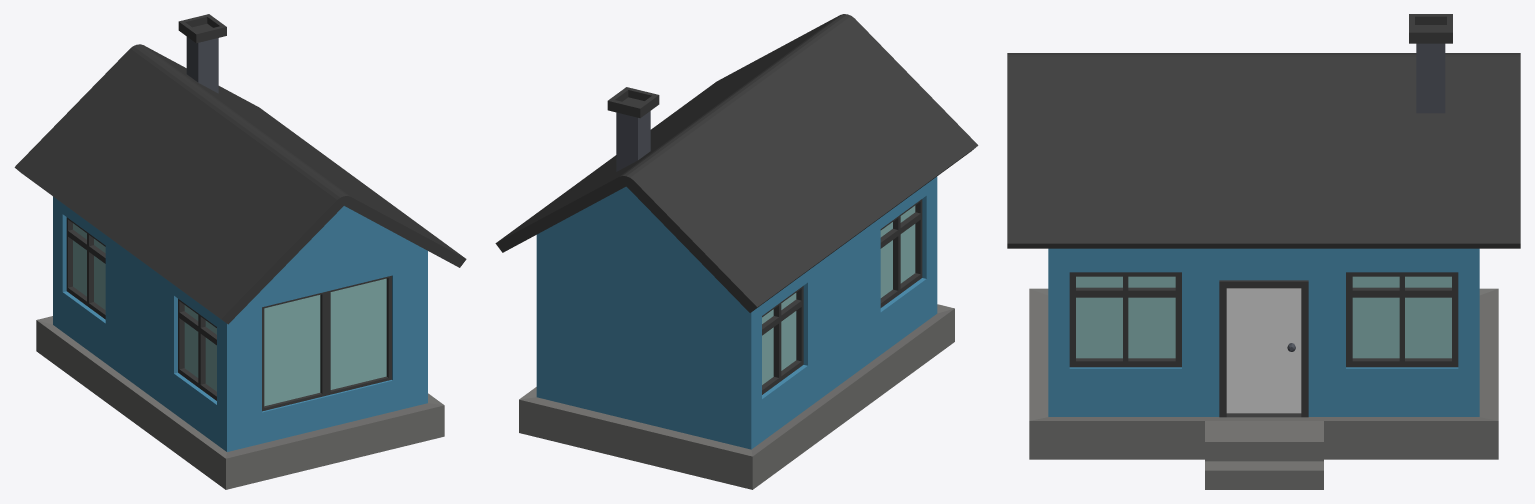
Rendered from lowPolyHouse01.fbx.
3 renders of one model, left to right at view 1: azimuth 30°, elevation 25°; view 2: azimuth 150°, elevation 25°; view 3: azimuth 270°, elevation 25°, orthographic. The views are drawn at different scales.
Visible parts, largest first — view 1: House; view 2: House; view 3: House.
Boxes of the visible parts, x1,y1,x2,y2 form: House: [14, 14, 466, 489]; House: [495, 14, 978, 489]; House: [1007, 14, 1520, 489].
Size of the model in its own units: 561 by 595 by 714.
